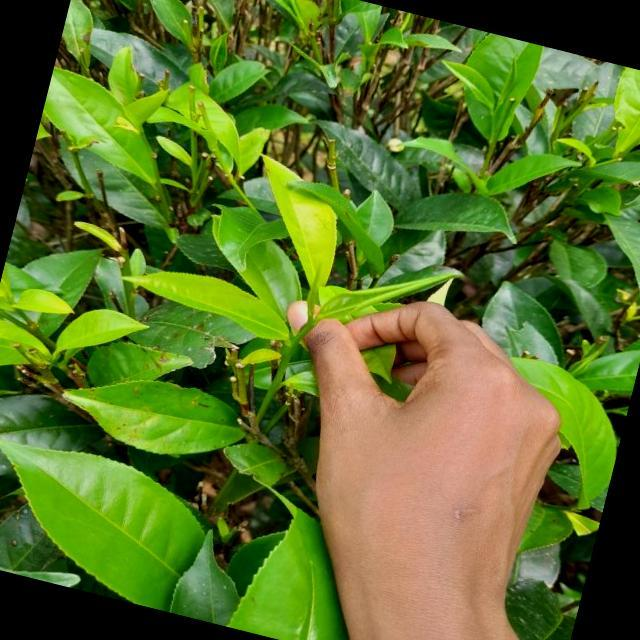Stem: (306, 324, 313, 328)
